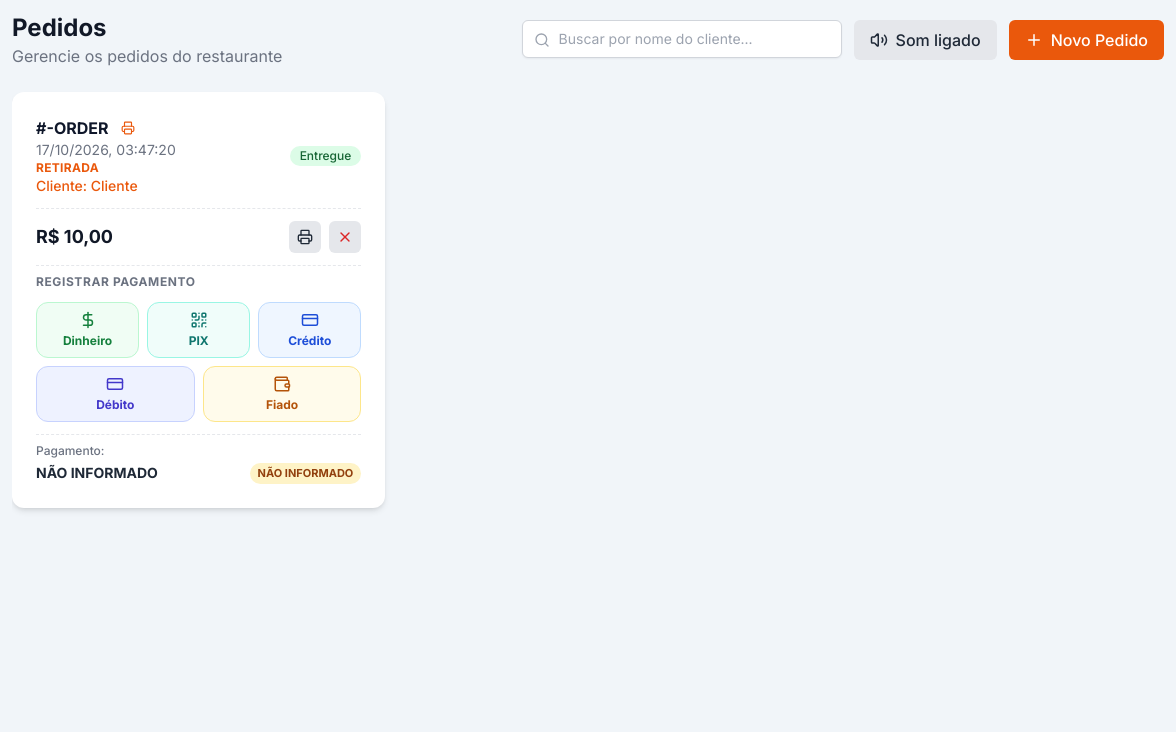
Test: payment request volume › payment Dinheiro performs one write and only three refresh reads
Click the button "Dinheiro" at (88, 330), box [36,302,139,358]
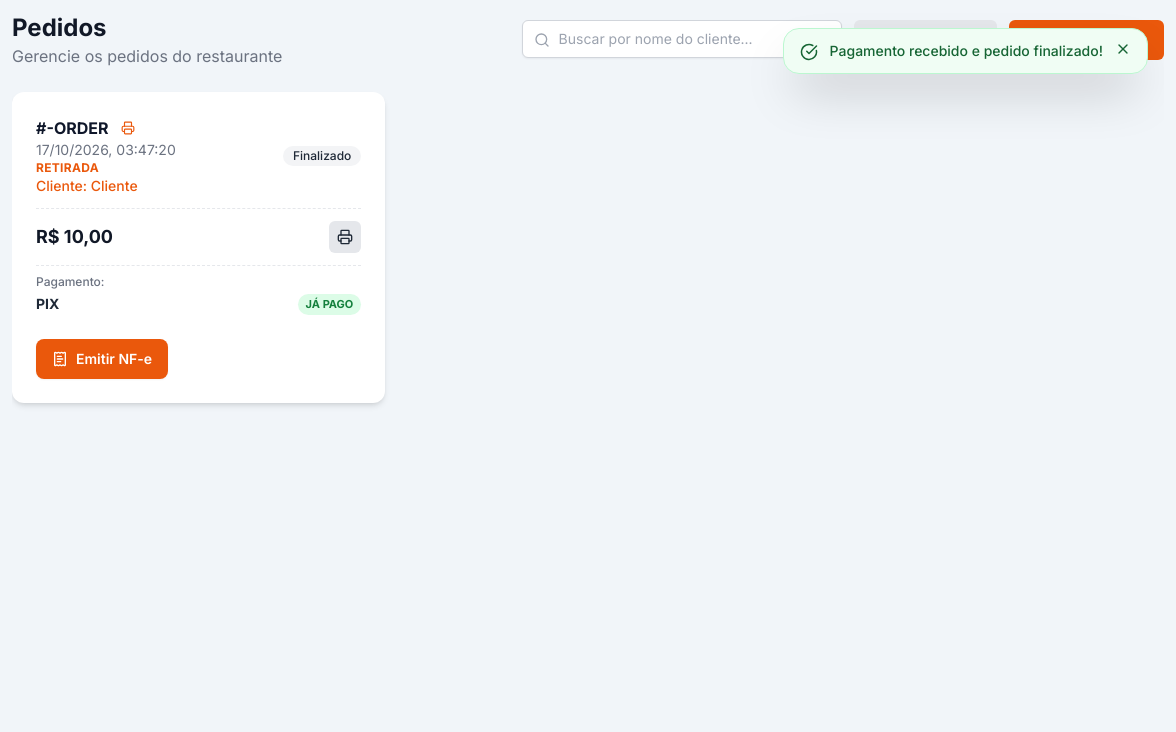
Result: the button "Dinheiro" is gone
